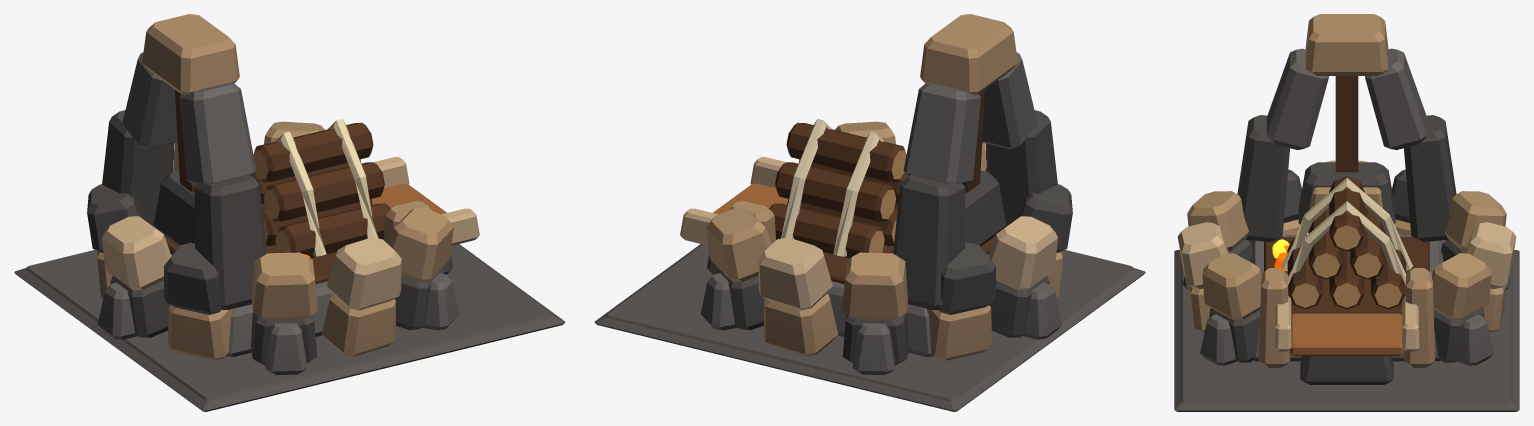
The model's file is charcoal_feeder.glb.
The picture shows the model from 3 angles, left to right: view 1: azimuth 30°, elevation 25°; view 2: azimuth 150°, elevation 25°; view 3: azimuth 270°, elevation 25°; orthographic projection. The views are drawn at different scales.
Visible parts, largest first — view 1: CharcoalFeeder_Static, AnimatedPart; view 2: CharcoalFeeder_Static, AnimatedPart; view 3: CharcoalFeeder_Static, AnimatedPart.
Boxes of the visible parts, bbox=[...] form: CharcoalFeeder_Static: bbox=[14, 14, 565, 411]; AnimatedPart: bbox=[153, 90, 194, 246]; CharcoalFeeder_Static: bbox=[594, 14, 1145, 411]; AnimatedPart: bbox=[965, 90, 1006, 246]; CharcoalFeeder_Static: bbox=[1174, 14, 1519, 411]; AnimatedPart: bbox=[1298, 76, 1395, 224].
Bounding box in the file's own units: 2.22 × 1.69 × 2.
